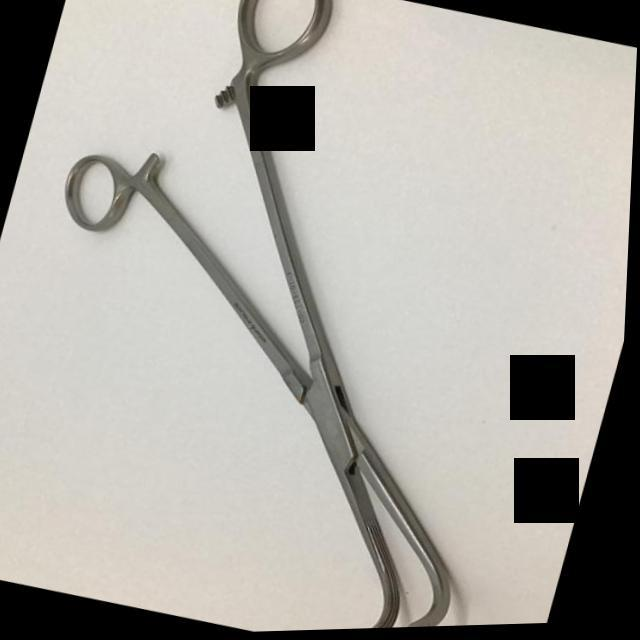Rectangle Cholecystectomy Forceps: (0, 0, 629, 640)
